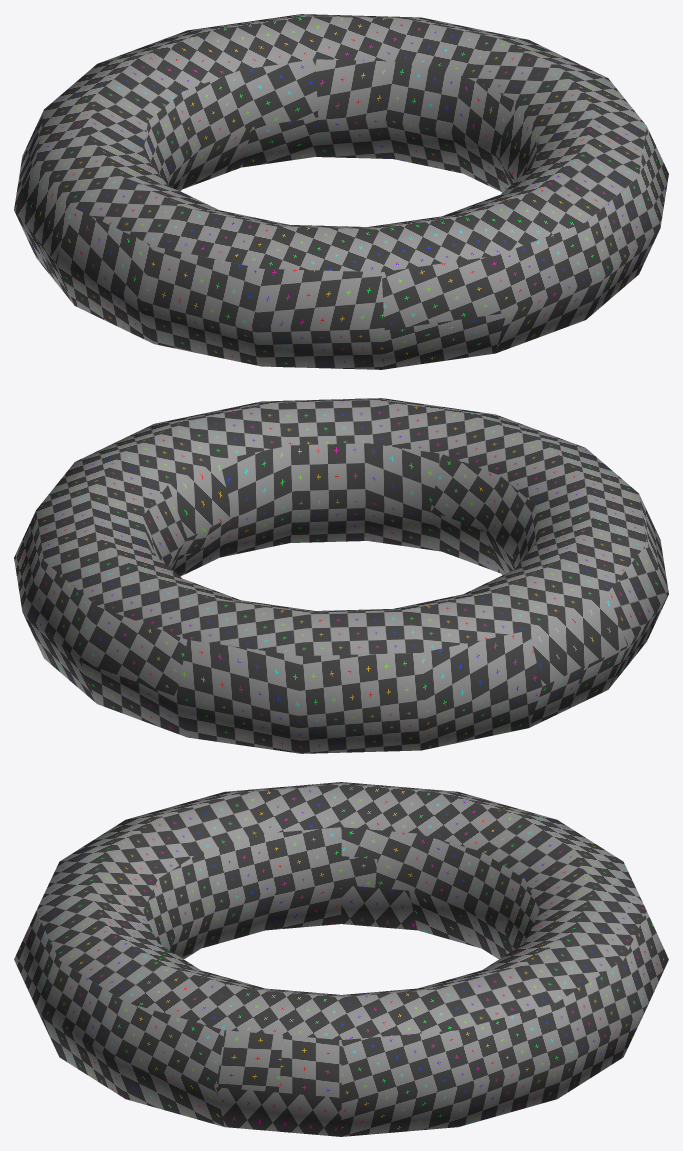
File: supertoroid_uv.gltf
The picture shows the model from 3 angles, top to bottom: view 1: azimuth 30°, elevation 25°; view 2: azimuth 150°, elevation 25°; view 3: azimuth 270°, elevation 25°; orthographic projection.
Parts seen in each view (by area): view 1: SuperToroid; view 2: SuperToroid; view 3: SuperToroid.
Part boxes in pixels (bbox=[...]): SuperToroid: bbox=[14, 14, 668, 369]; SuperToroid: bbox=[14, 398, 668, 753]; SuperToroid: bbox=[14, 782, 668, 1136].
Size of the model in its own units: 2.6 by 0.6 by 2.6.
Materials: 1 (1 with a texture image).
